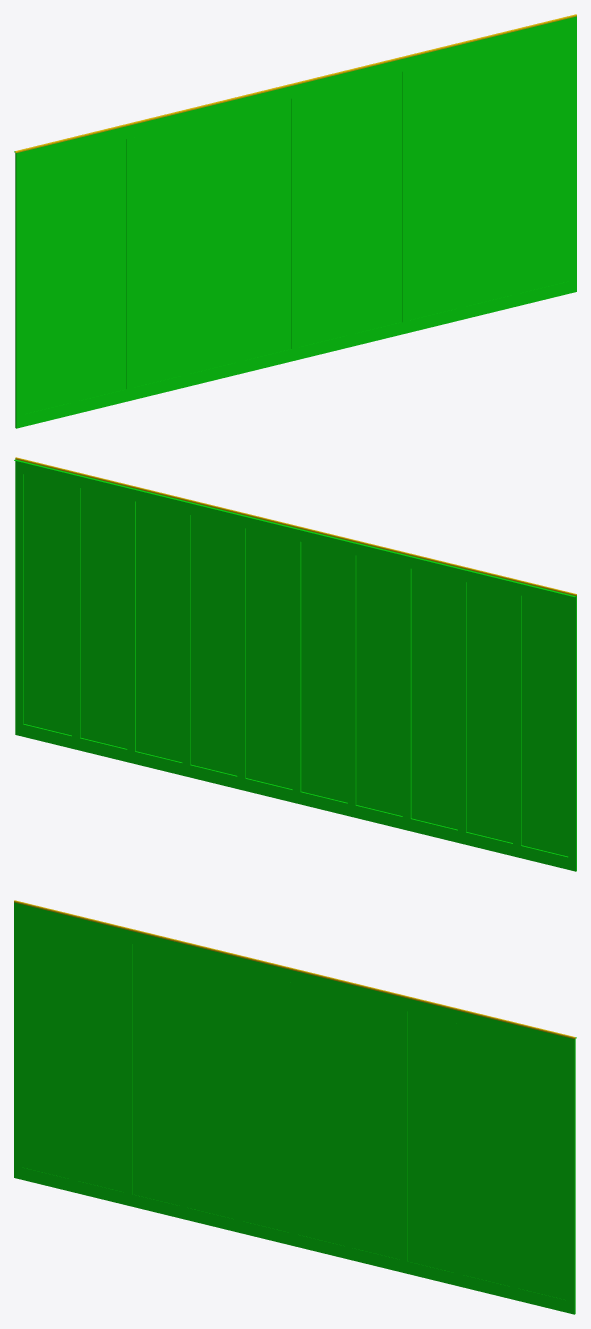
The model's file is SM_RM2_FlutteredPanel.fbx.
3 renders of one model, top to bottom at view 1: azimuth 30°, elevation 25°; view 2: azimuth 150°, elevation 25°; view 3: azimuth 330°, elevation 25°, orthographic.
Parts seen in each view (by area): view 1: SM_RM2_FlutteredPanel; view 2: SM_RM2_FlutteredPanel; view 3: SM_RM2_FlutteredPanel.
Part boxes in pixels (x1,y1,x2,y2): SM_RM2_FlutteredPanel: (14, 14, 576, 428); SM_RM2_FlutteredPanel: (14, 457, 576, 871); SM_RM2_FlutteredPanel: (14, 900, 576, 1314).
Bounding box in the file's own units: 356 × 168 × 2.5.
